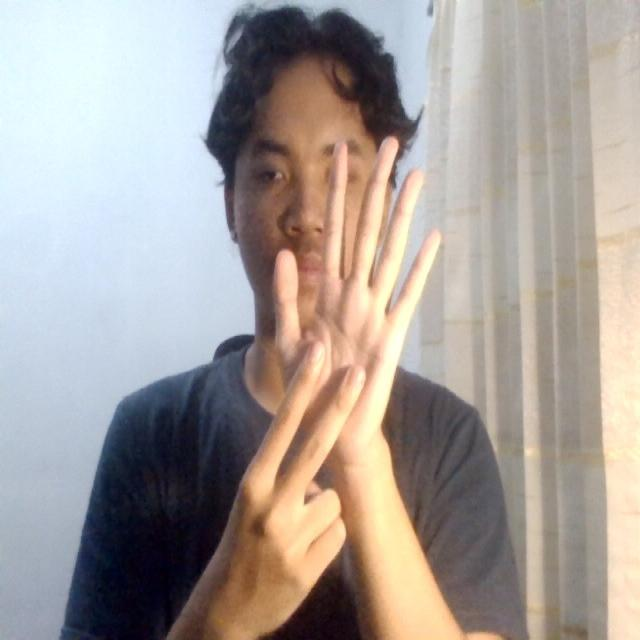IloveYou: (220, 121, 458, 574)
